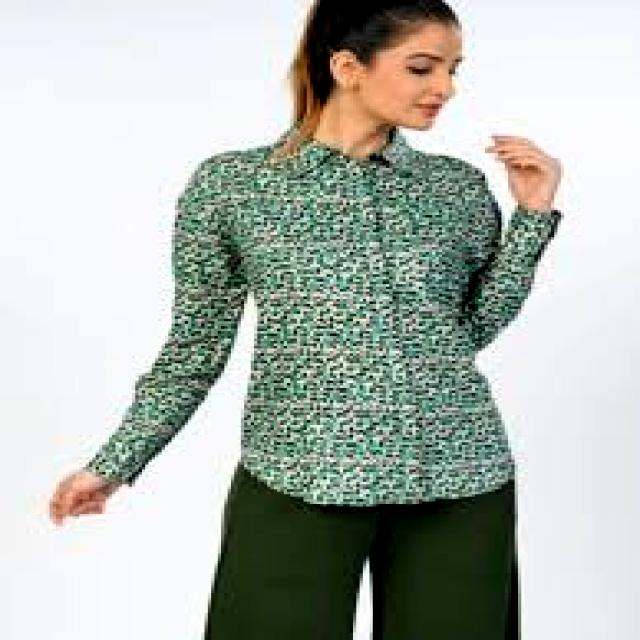face: (344, 23, 461, 128)
lower-wear: (205, 463, 521, 639)
top-wear: (86, 124, 560, 506)
